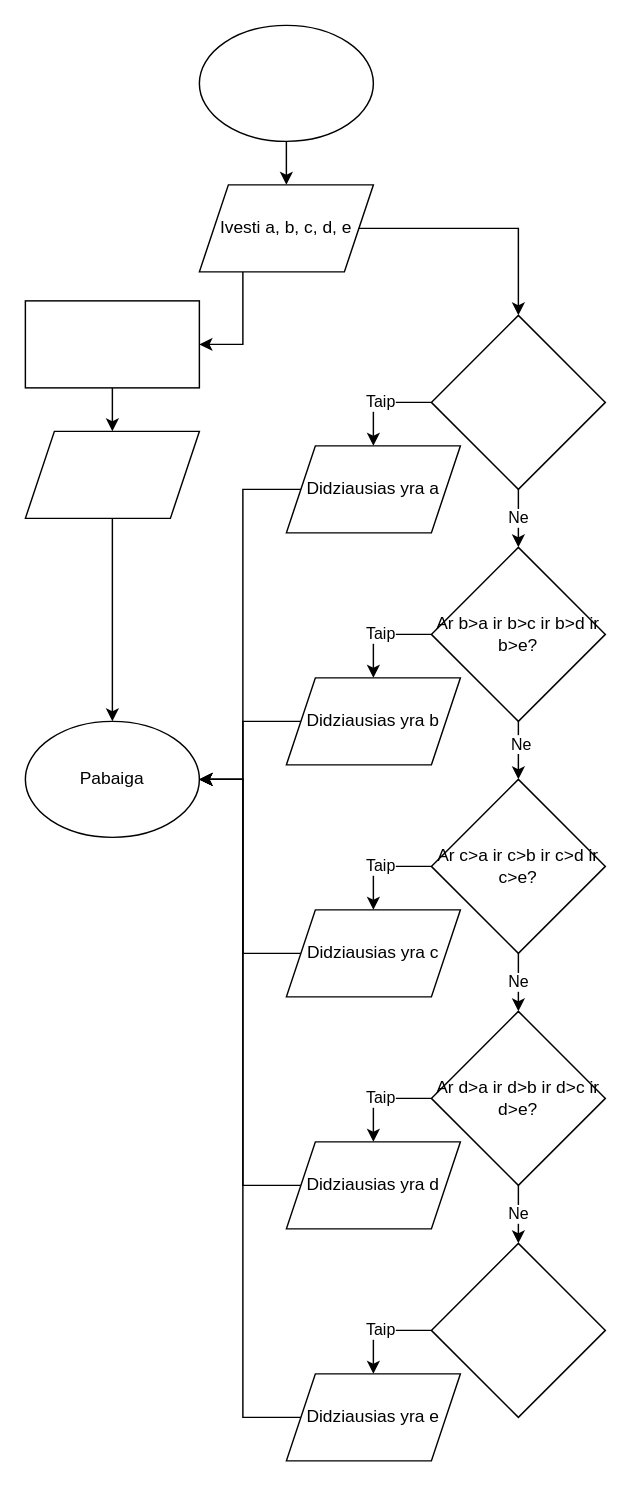
The diagram is 631 pixels wide and 1486 high, and some of its shapes have lost their labels. The box of each missing label's shape, as (x1, y1, x2, y2) in pixels:
Ar a>b ir a>c ir a>d ir a>e?: (430, 314, 605, 489)
Ar e>a ir e>b ir e>c ir e>d?: (430, 1242, 605, 1417)
Pradzia: (198, 24, 373, 141)
V=(a+b+c+d+e)/5: (24, 299, 199, 388)
Vidurkis yra V: (24, 430, 199, 518)
